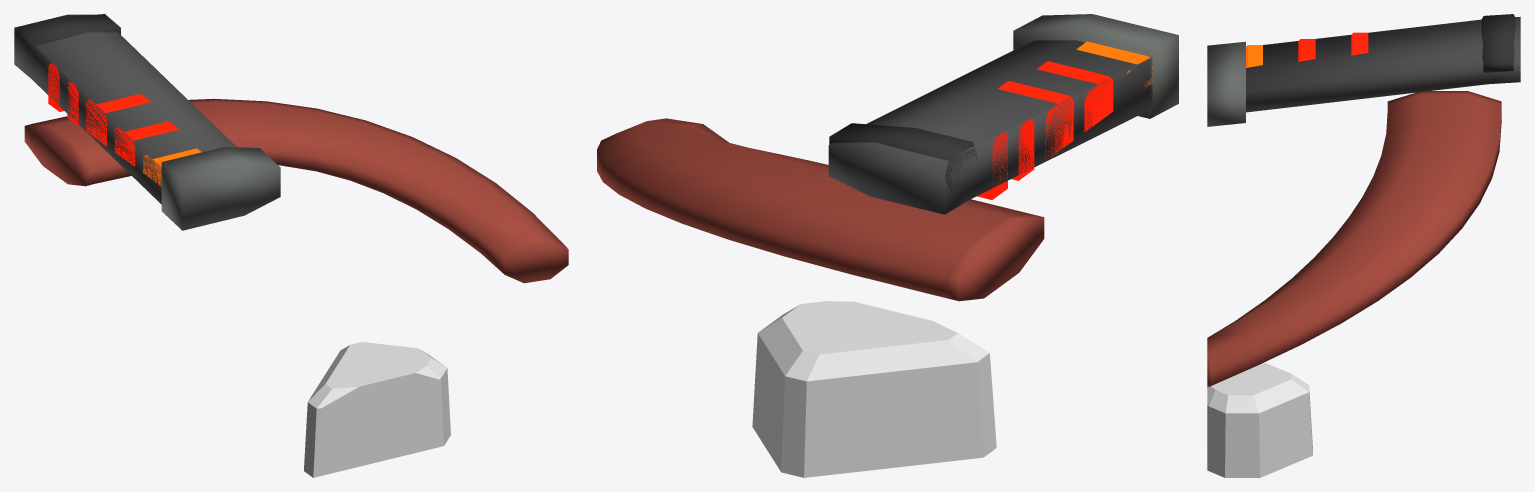
Rendered from newshi-5.glb.
3 views of the same model, side by side, from view 1: azimuth 30°, elevation 25°; view 2: azimuth 150°, elevation 25°; view 3: azimuth 270°, elevation 25° (orthographic). The views are drawn at different scales.
Parts seen in each view (by area): view 1: newshi-5; view 2: newshi-5; view 3: newshi-5.
Boxes of the visible parts, <box> form: newshi-5: <box>14,14,568,477</box>; newshi-5: <box>597,14,1178,477</box>; newshi-5: <box>1207,14,1520,477</box>.
Size of the model in its own units: 1.97 by 1.76 by 1.48.
